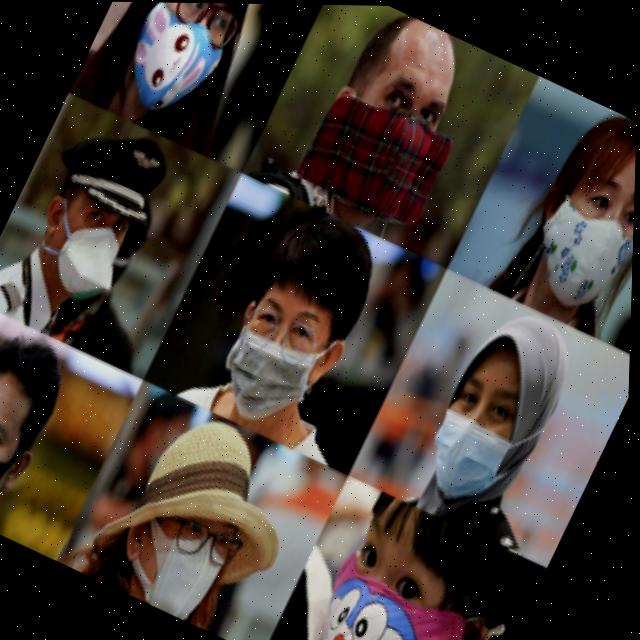Mask: (299, 75, 468, 231), (199, 289, 348, 424), (411, 379, 555, 516), (292, 553, 504, 640), (6, 186, 143, 314), (101, 1, 236, 129), (515, 186, 636, 319), (107, 506, 237, 626), (0, 403, 42, 530)
